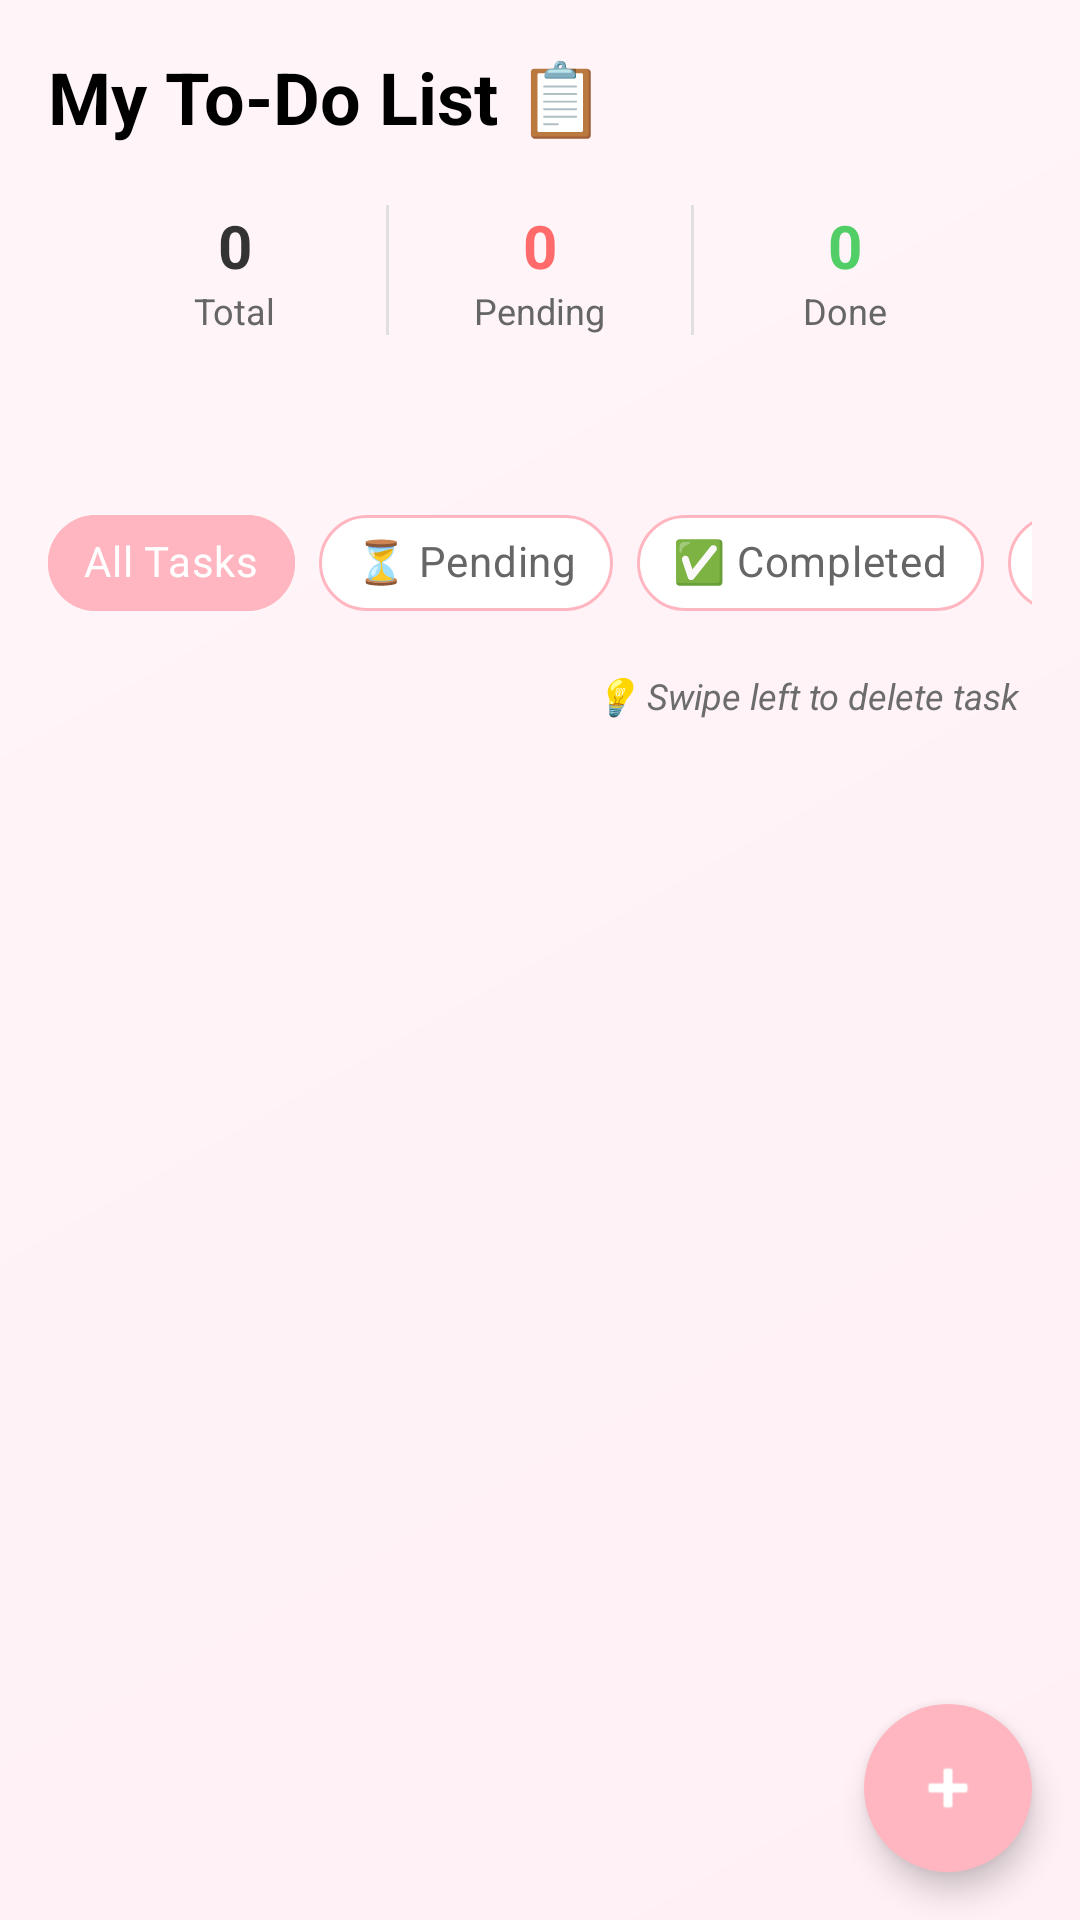

Where to tap for icons on this 1080px×1920px app screen, as point (x, y):
Add Task: point (948, 1788)
